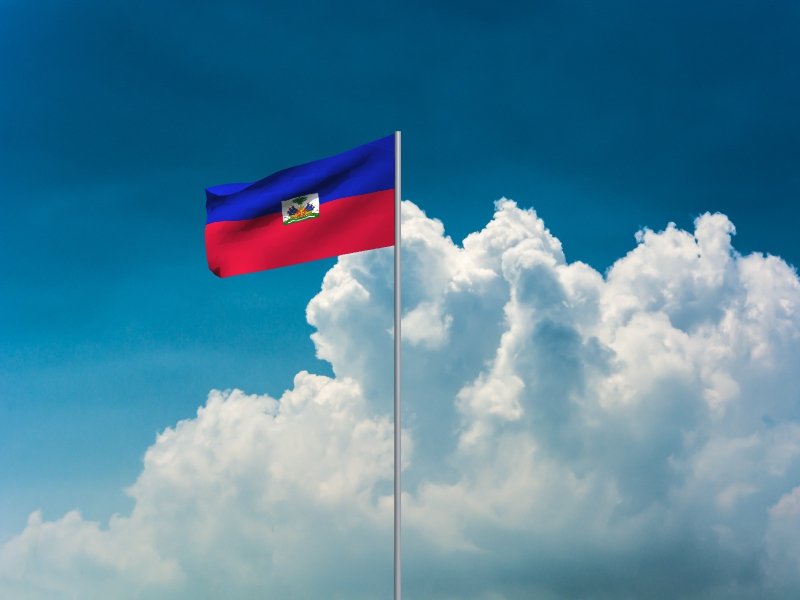ht: (205, 134, 395, 279)
